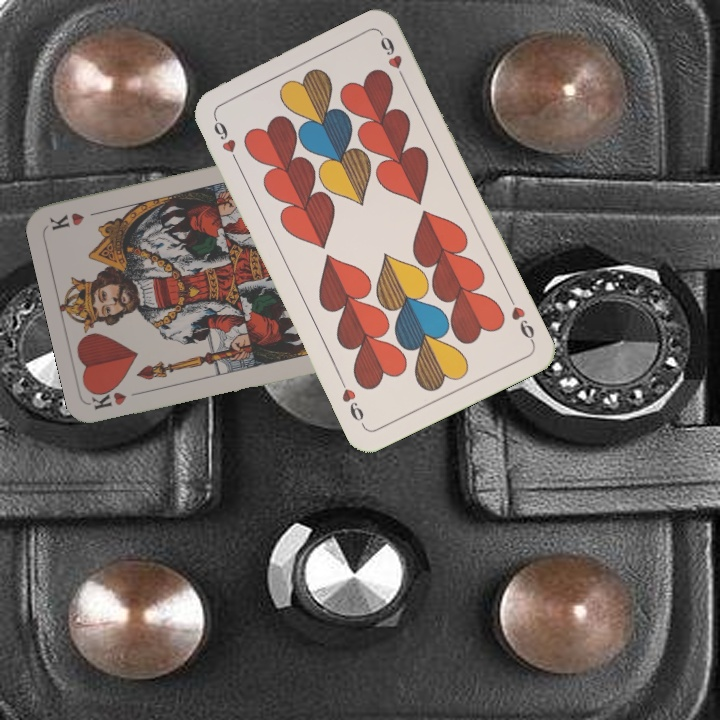H9: (209, 112, 242, 168), (504, 292, 538, 346)
HK: (89, 383, 149, 413)
